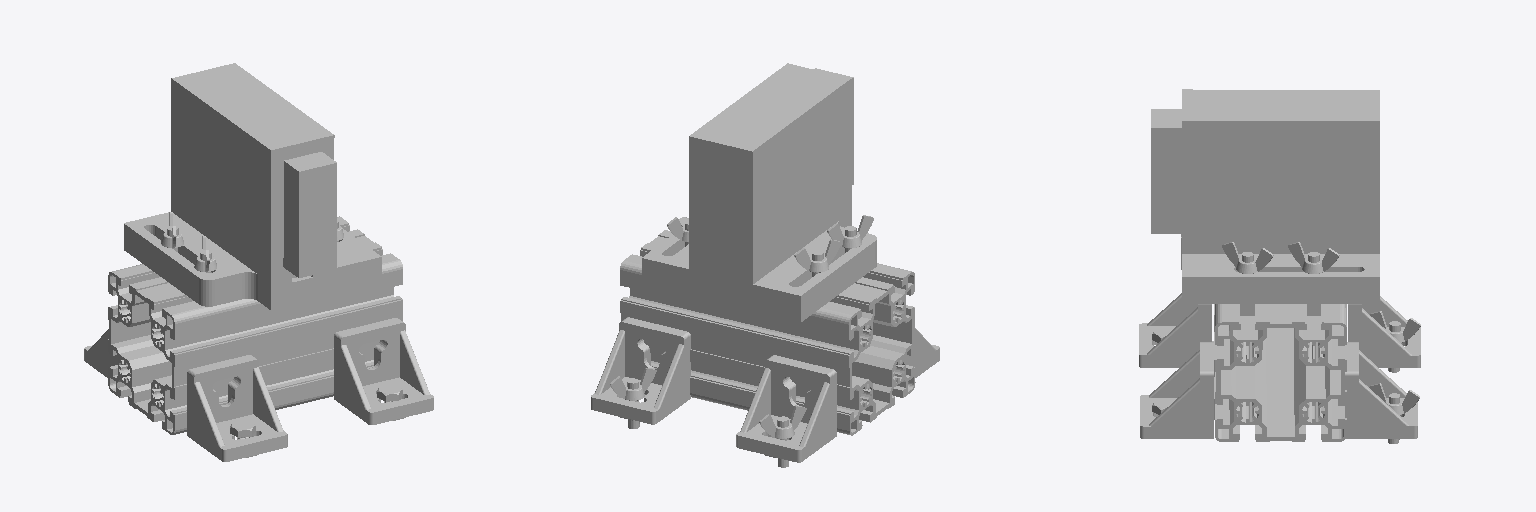
File: clamp_counterpart.obj
3 renders of one model, left to right at view 1: azimuth 30°, elevation 25°; view 2: azimuth 150°, elevation 25°; view 3: azimuth 270°, elevation 25°, orthographic.
Parts seen in each view (by area): view 1: Clamping_Right_Bolt.005; view 2: Clamping_Right_Bolt.005; view 3: Clamping_Right_Bolt.005.
Part boxes in pixels (x1,y1,x2,y2): Clamping_Right_Bolt.005: (84, 63, 433, 461); Clamping_Right_Bolt.005: (591, 63, 939, 467); Clamping_Right_Bolt.005: (1139, 89, 1420, 443).
Size of the model in its own units: 1.79 by 2.24 by 1.91.